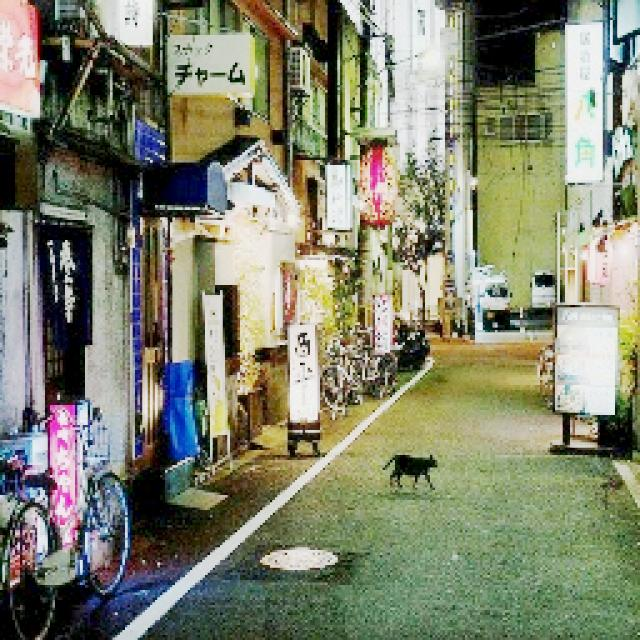cat: (382, 451, 442, 497)
